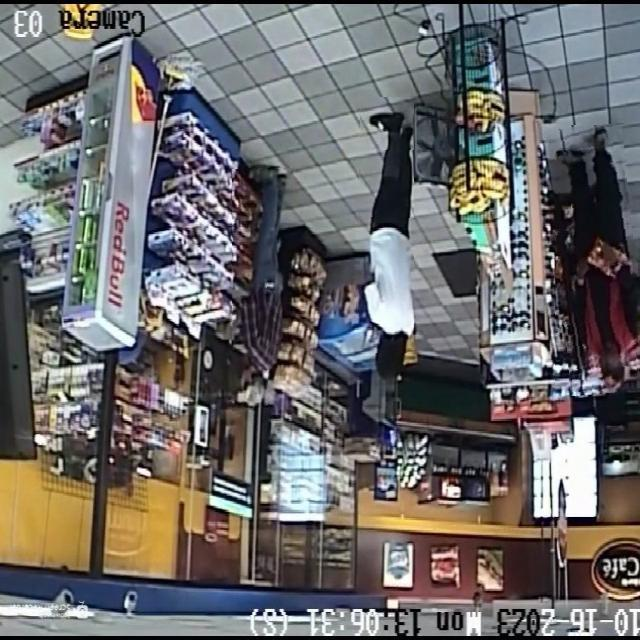Normal: (555, 125, 640, 395), (356, 97, 414, 387), (232, 168, 291, 414)
